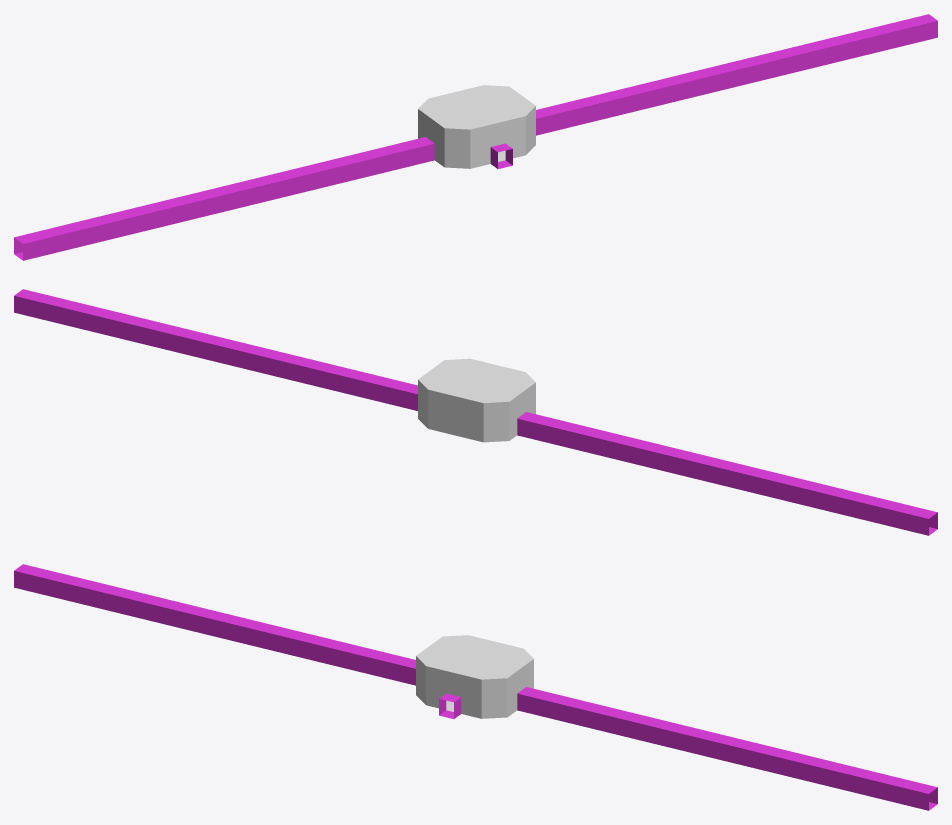
The model's file is Room.fbx.
3 views of the same model, one above another, from view 1: azimuth 30°, elevation 25°; view 2: azimuth 150°, elevation 25°; view 3: azimuth 330°, elevation 25° (orthographic).
Parts seen in each view (by area): view 1: Room; view 2: Room; view 3: Room.
Boxes of the visible parts, bbox=[...] form: Room: bbox=[14, 14, 937, 260]; Room: bbox=[14, 289, 937, 535]; Room: bbox=[14, 564, 937, 810].
Bounding box in the file's own units: 15426 × 634 × 1448.
